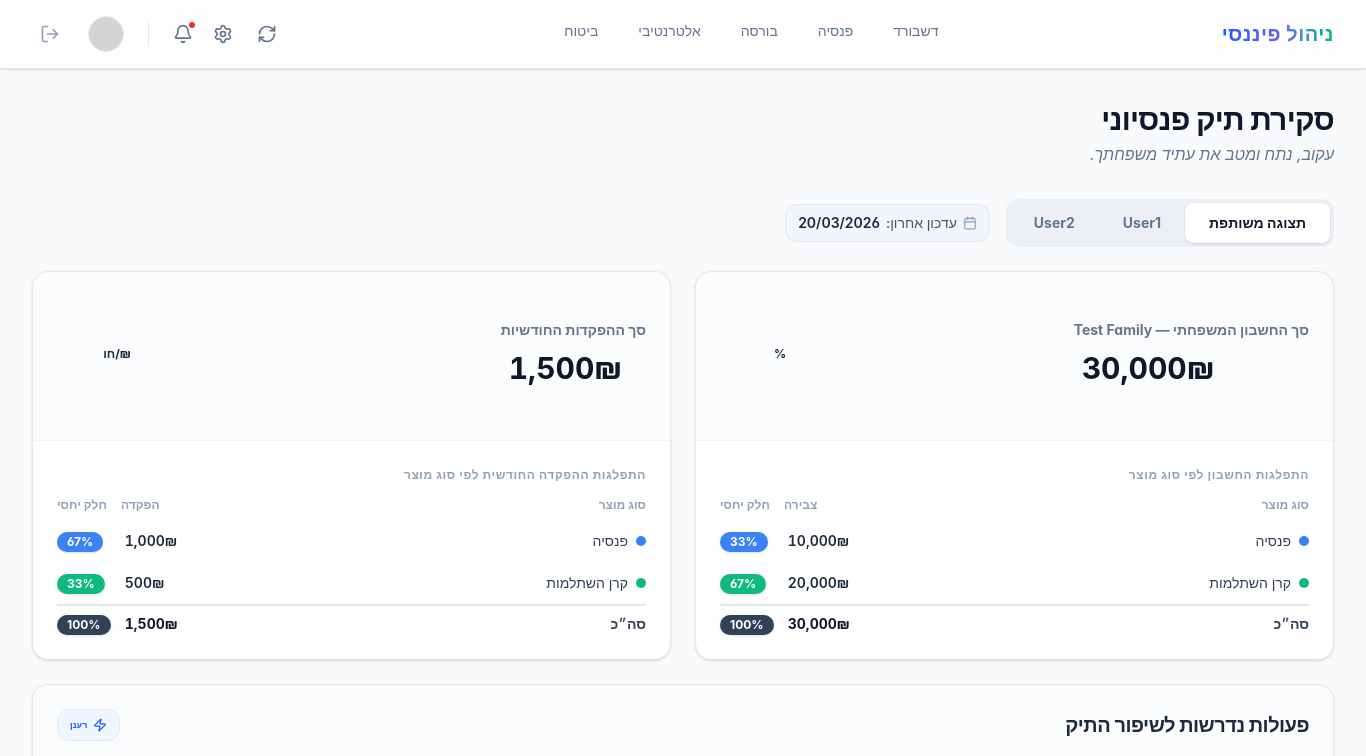
Test: Pension Component › displays and updates last updated date per tab
The width and height of the screenshot is (1366, 756).
Expected: the text "עדכון אחרון:" is shown, [886,213,957,233]
Expected: the text "20/03/2026" is shown, [798,213,880,233]
# Switch to User1 tab
Click the button "User1".
click(1142, 223)  # box [1099,203,1185,243]
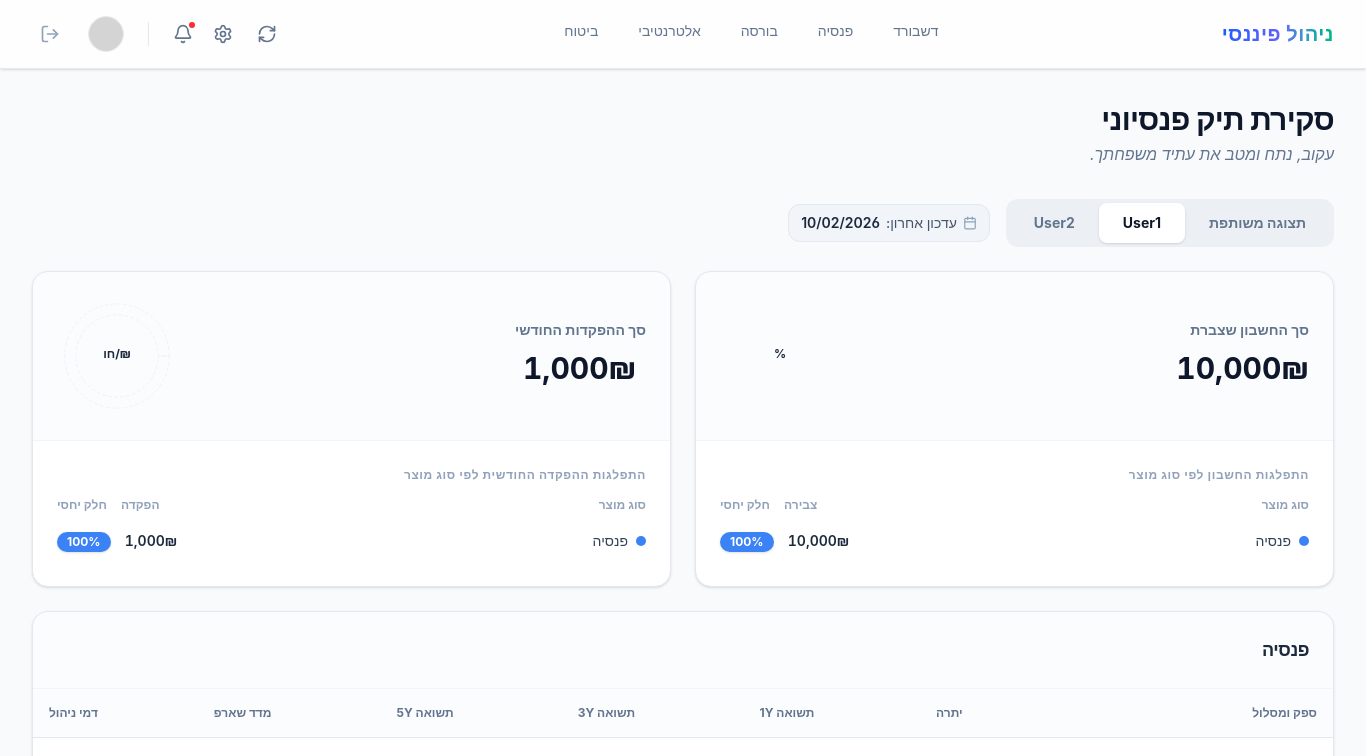
Expected: the text "10/02/2026" is shown, [801,213,880,233]
# Switch to User2 tab
Click the button "User2".
click(1054, 223)  # box [1010,203,1099,243]
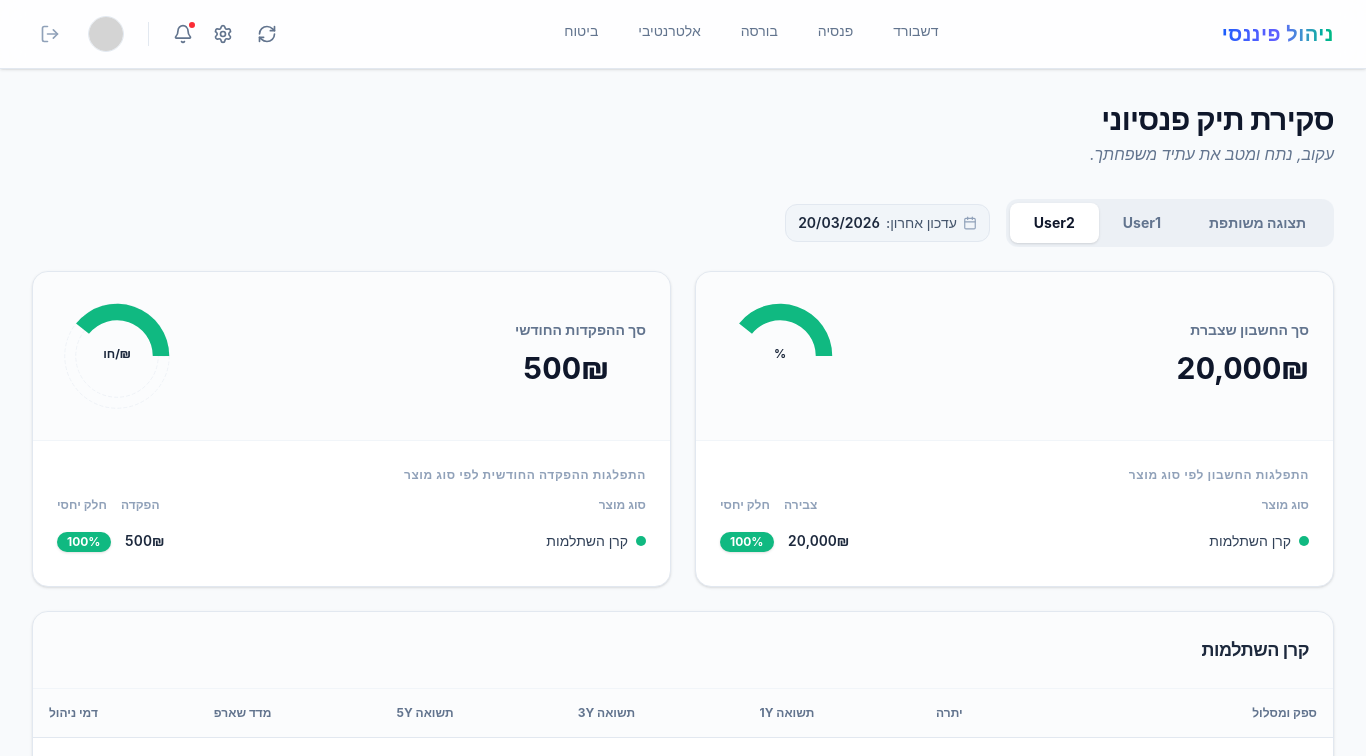
Expected: the text "20/03/2026" is shown, [798,213,880,233]
